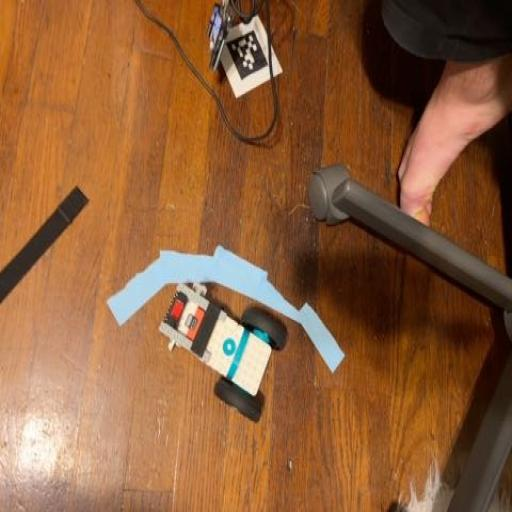Opponent: (158, 279, 290, 427)
